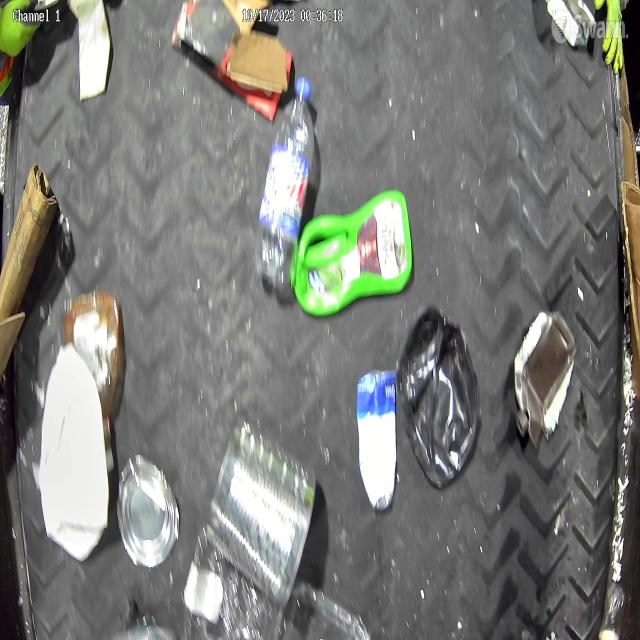can: (207, 418, 318, 610), (515, 309, 579, 446), (117, 452, 183, 568)
milk_jug: (37, 347, 110, 560)
non_white_jug: (286, 188, 412, 316), (397, 304, 481, 487)
plastic_bottle: (258, 75, 315, 288), (597, 585, 628, 640)
